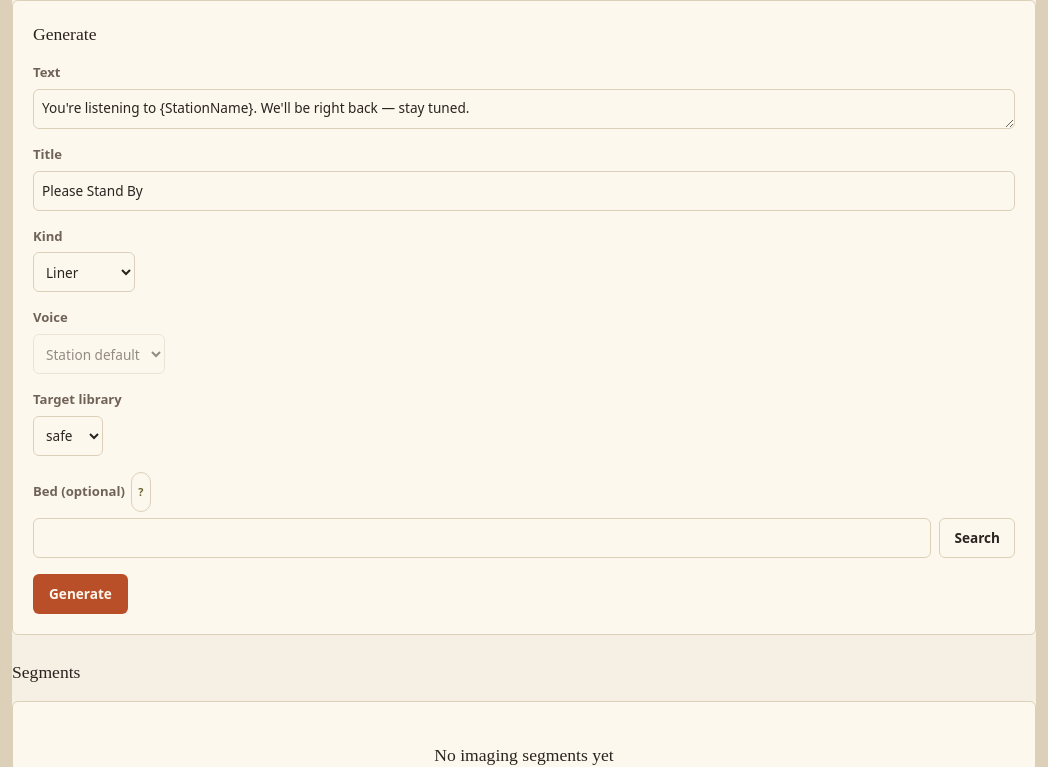
Test: Feature: Station sounds redesign › Scenario: generate flow with toast and disabled state › toasts success on 201
The width and height of the screenshot is (1048, 767).
What coordinates should you click on to do the following:
click the button "Generate"
I would click on:
 (80, 594)
Its box is [33, 574, 128, 614].
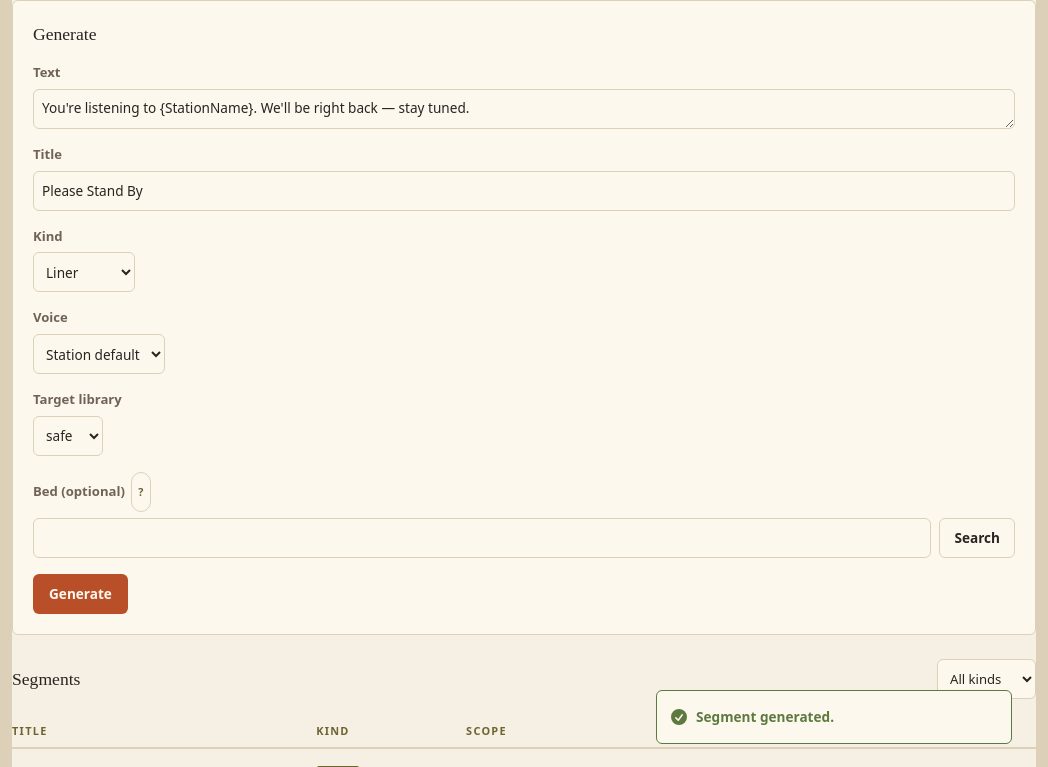
expect the text "Segment generated." is shown: met, box [696, 707, 834, 727]
